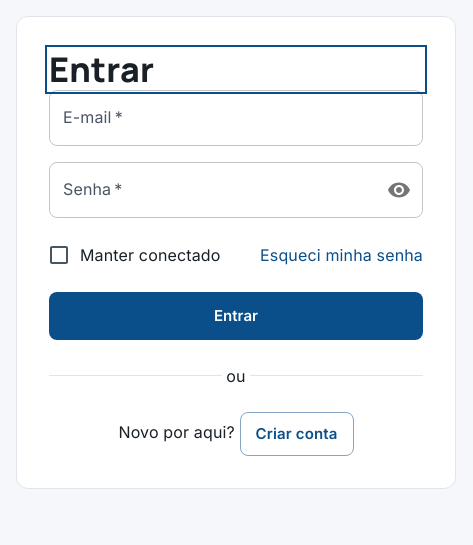
Test: Login › validação local antes de enviar
Click the button "Entrar" at {"x": 236, "y": 316}, box top-left (49, 292), bottom-right (423, 340)
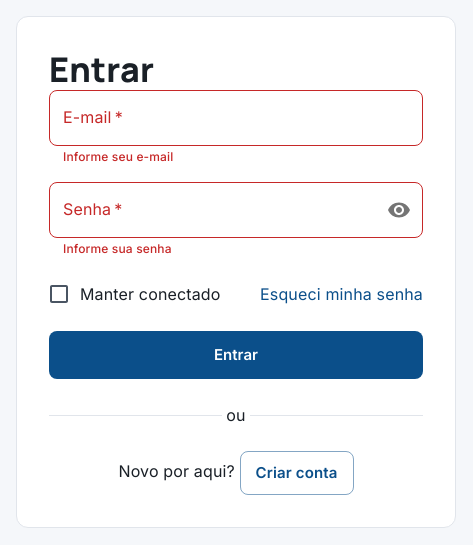
Expected: the text "Informe seu e-mail" is shown, top-left (63, 149), bottom-right (173, 164)
Expected: the text "Informe sua senha" is shown, top-left (63, 241), bottom-right (172, 256)
